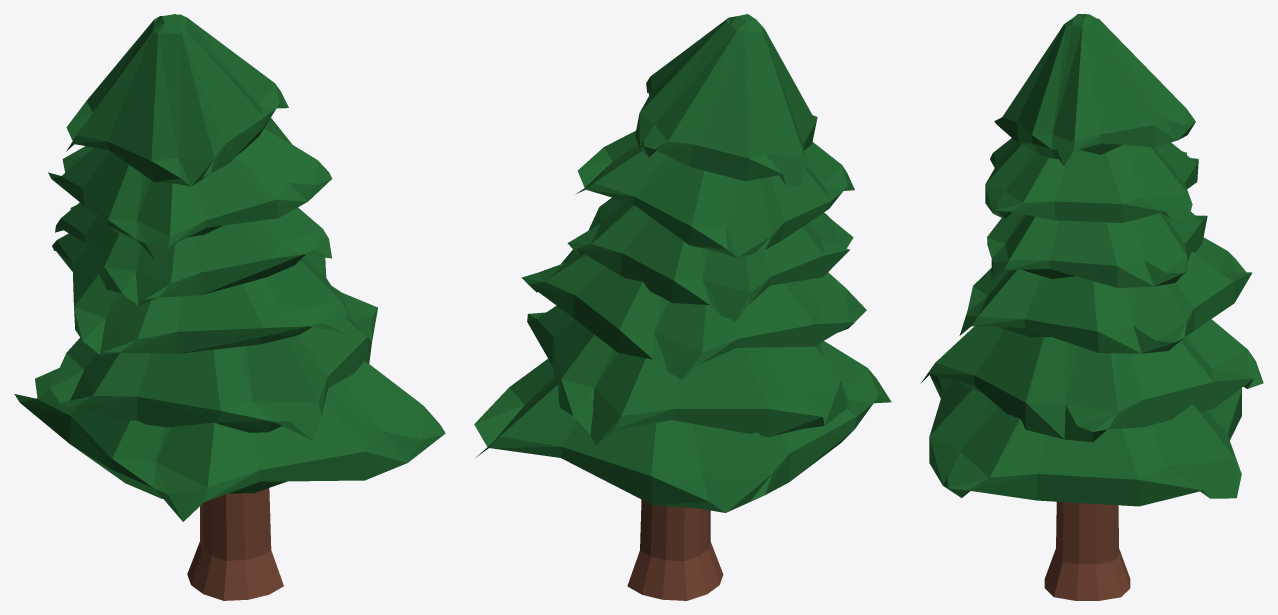
File: Trees1.fbx
The picture shows the model from 3 angles, left to right: view 1: azimuth 30°, elevation 25°; view 2: azimuth 150°, elevation 25°; view 3: azimuth 270°, elevation 25°; orthographic projection. The views are drawn at different scales.
Visible parts, largest first — view 1: Leaves, Trunk; view 2: Leaves, Trunk; view 3: Leaves, Trunk.
Boxes of the visible parts, x1,y1,x2,y2 form: Leaves: (14,14,445,521); Trunk: (187,488,283,600); Leaves: (474,14,891,512); Trunk: (627,499,723,600); Leaves: (920,14,1263,506); Trunk: (1044,501,1130,600).
Bounding box in the file's own units: 1356 × 2347 × 1358.
